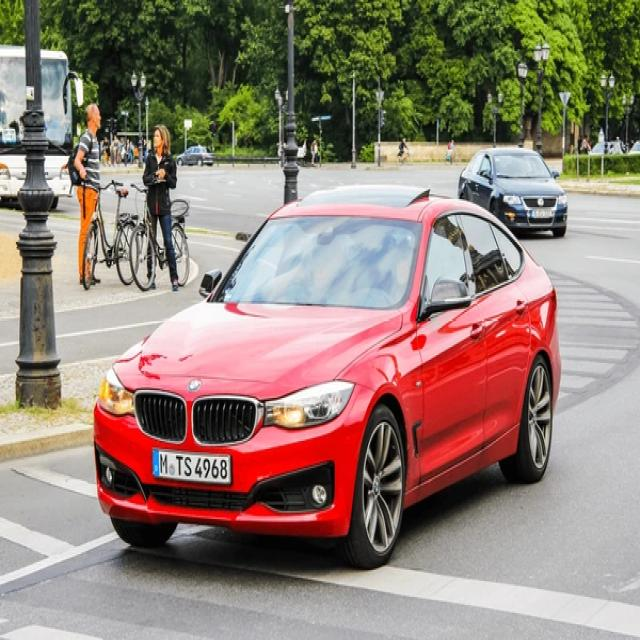bmw: (184, 376, 203, 396)
